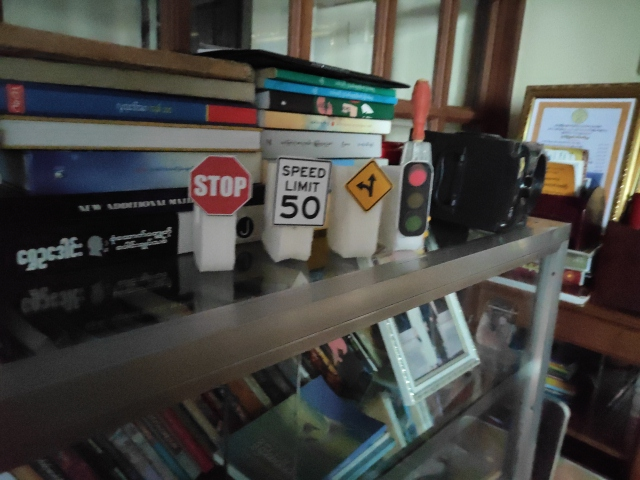Red Traffic Light: (397, 160, 435, 238)
Speed Limit 50: (272, 156, 333, 227)
Stop Sign: (190, 155, 252, 216)
Straight Or Left Sign: (344, 159, 394, 211)
